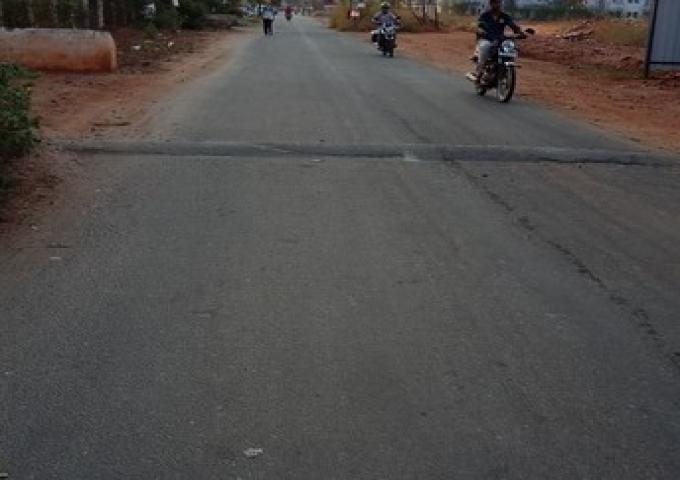speedbreaker: (28, 124, 678, 192)
